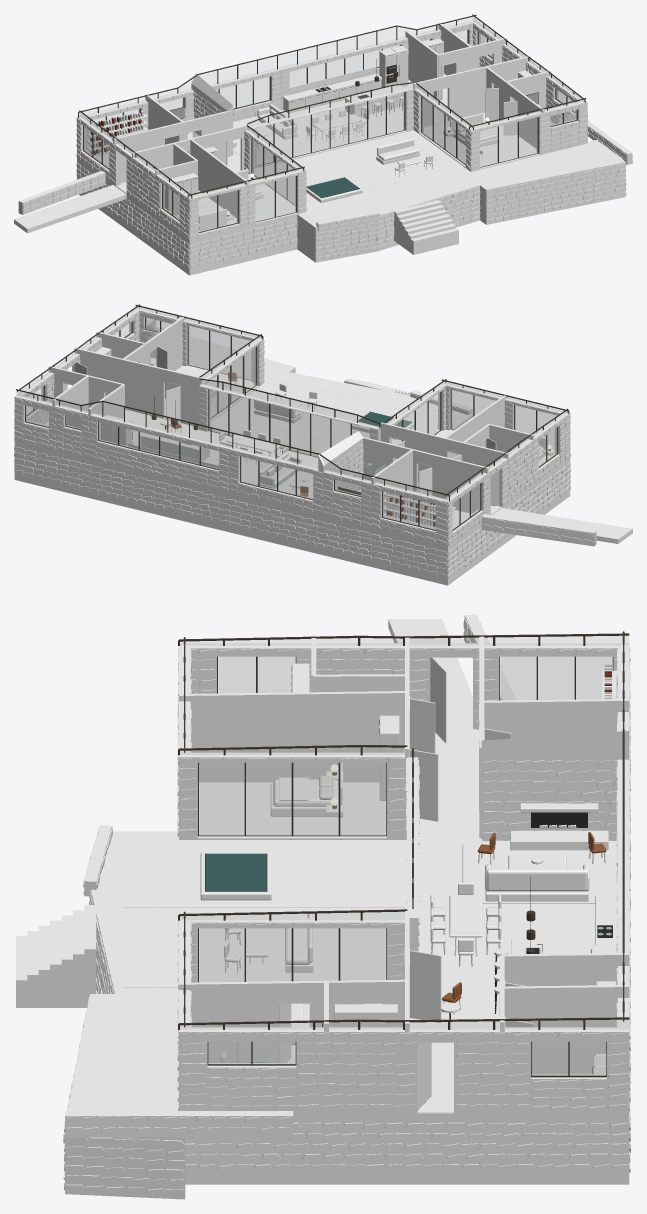
The model's file is LAKOTAH_cutaway.glb.
The picture shows the model from 3 angles, top to bottom: view 1: azimuth 30°, elevation 25°; view 2: azimuth 150°, elevation 25°; view 3: azimuth 270°, elevation 25°; orthographic projection. The views are drawn at different scales.
Parts seen in each view (by area): view 1: Angular foothill stone / actual geometry, Courtyard stone terrace, Primary private terrace, Great room courtyard glazing 0, Honed interior floor 1, Stone hillside plinth 1, Honed interior floor 3, Primary south facade glazing 0, Entry approach, Primary suite north solid 2, Guest bedrooms divider solid 0, Primary courtyard facade glazing 0 (+45 smaller); view 2: Angular foothill stone / actual geometry, Courtyard stone terrace, Stone hillside plinth 0, Great room courtyard glazing 0, Honed interior floor 1, Enclosed slab 1, Primary suite north solid 2, North facade glazing 3, Primary south facade glazing 0, Primary private terrace, North facade glazing 2, Office south solid 0 (+39 smaller); view 3: Angular foothill stone / actual geometry, Courtyard stone terrace, Honed interior floor 1, Primary private terrace, Guest courtyard facade glazing 0, Guest bedrooms divider solid 0, Primary courtyard facade glazing 0, Honed interior floor 2, Stone hillside plinth 0, Stone hillside plinth 2, Laundry pantry divider solid 0, Primary bath bedroom divider solid 0 (+57 smaller).
Boxes of the visible parts, box(x1,y1,x2,y2) form: Angular foothill stone / actual geometry: box(22, 23, 632, 269); Courtyard stone terrace: box(254, 130, 479, 262); Primary private terrace: box(463, 140, 625, 224); Great room courtyard glazing 0: box(257, 92, 404, 165); Honed interior floor 1: box(95, 73, 447, 193); Stone hillside plinth 1: box(132, 203, 297, 275); Honed interior floor 3: box(419, 112, 551, 168); Primary south facade glazing 0: box(480, 117, 537, 166); Entry approach: box(14, 185, 126, 233); Primary suite north solid 2: box(449, 62, 526, 120); Guest bedrooms divider solid 0: box(190, 144, 248, 225); Primary courtyard facade glazing 0: box(422, 98, 465, 163); Angular foothill stone / actual geometry: box(14, 311, 593, 578); Courtyard stone terrace: box(210, 372, 472, 455); Stone hillside plinth 0: box(14, 446, 508, 585); Great room courtyard glazing 0: box(209, 389, 369, 456); Honed interior floor 1: box(45, 409, 501, 527); Enclosed slab 1: box(14, 441, 508, 551); Primary suite north solid 2: box(80, 354, 163, 418); North facade glazing 3: box(99, 422, 218, 469); Primary south facade glazing 0: box(188, 326, 250, 379); Primary private terrace: box(154, 327, 295, 385); North facade glazing 2: box(241, 457, 312, 498); Office south solid 0: box(433, 460, 488, 513); Angular foothill stone / actual geometry: box(63, 618, 630, 1198); Courtyard stone terrace: box(91, 831, 407, 993); Honed interior floor 1: box(410, 724, 616, 1113); Primary private terrace: box(65, 994, 185, 1199); Guest courtyard facade glazing 0: box(199, 763, 385, 835); Guest bedrooms divider solid 0: box(190, 701, 404, 782); Primary courtyard facade glazing 0: box(199, 928, 385, 981); Honed interior floor 2: box(198, 782, 386, 838); Stone hillside plinth 0: box(407, 1122, 629, 1184); Stone hillside plinth 2: box(185, 1122, 407, 1184); Laundry pantry divider solid 0: box(504, 998, 617, 1074); Primary bath bedroom divider solid 0: box(190, 990, 278, 1062).
Bounding box in the file's own units: 38.24 × 6.34 × 19.41.
